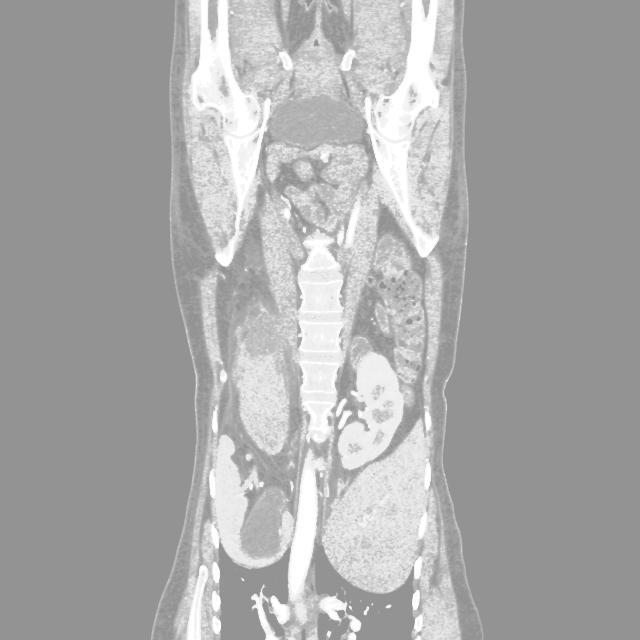TUMOR: (141, 265, 499, 427)
